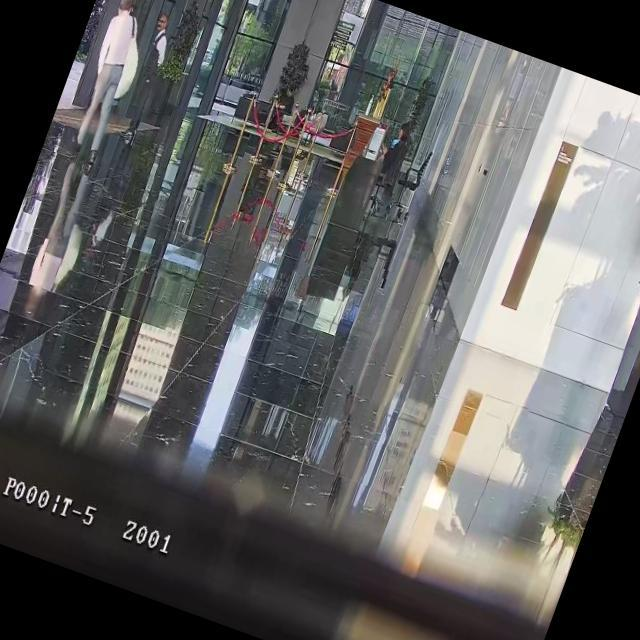person: (61, 0, 153, 168), (114, 11, 180, 145), (380, 120, 412, 178), (266, 82, 300, 134)
